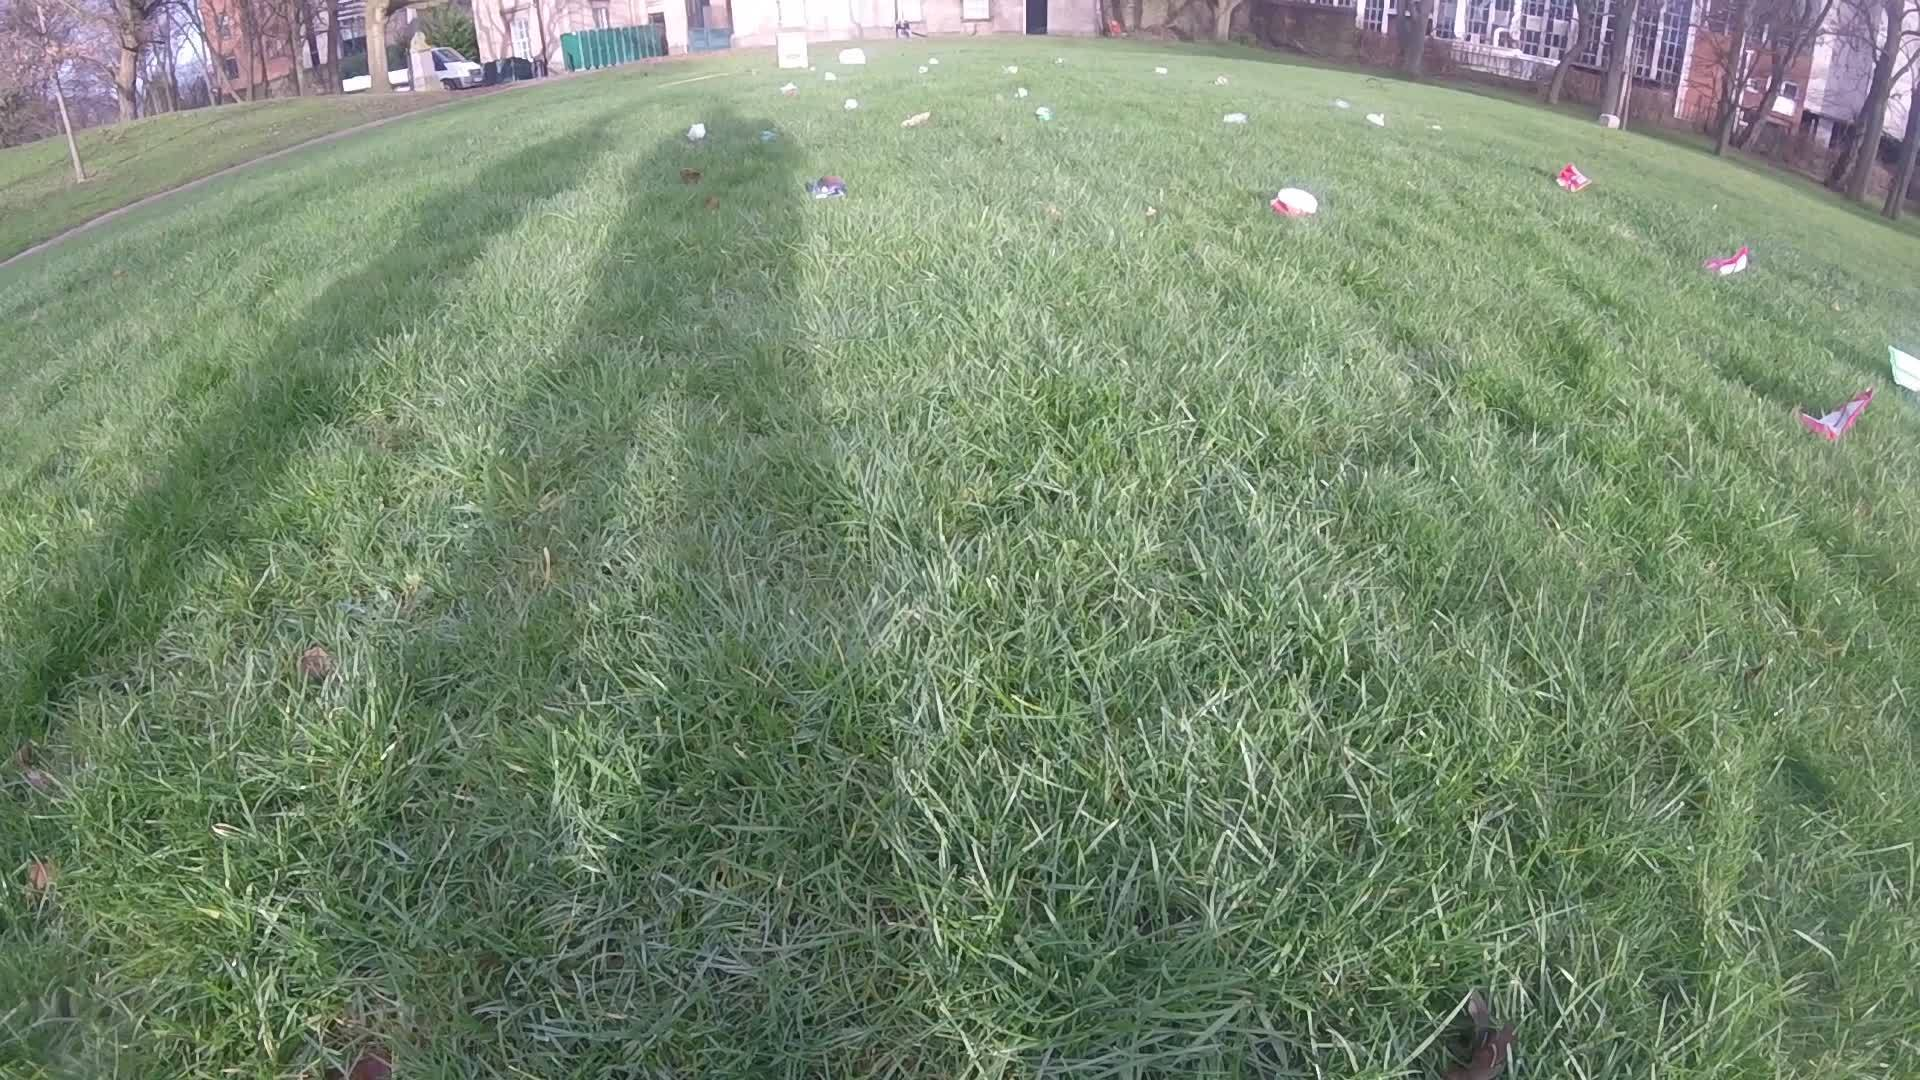litter: (1803, 393, 1870, 444), (1273, 183, 1316, 222), (1890, 342, 1916, 396), (804, 171, 849, 203), (775, 28, 810, 67), (1712, 248, 1751, 276), (1559, 161, 1593, 191), (898, 111, 934, 127), (1366, 109, 1387, 131), (841, 49, 869, 65), (1033, 103, 1054, 123), (688, 123, 705, 142), (1220, 113, 1247, 124), (783, 80, 800, 95), (841, 98, 860, 109), (1335, 96, 1350, 109), (1213, 73, 1229, 86), (760, 132, 779, 141), (1015, 84, 1029, 98), (1153, 65, 1170, 74), (924, 55, 940, 65), (1004, 65, 1018, 74), (823, 73, 837, 80), (918, 65, 931, 73)
